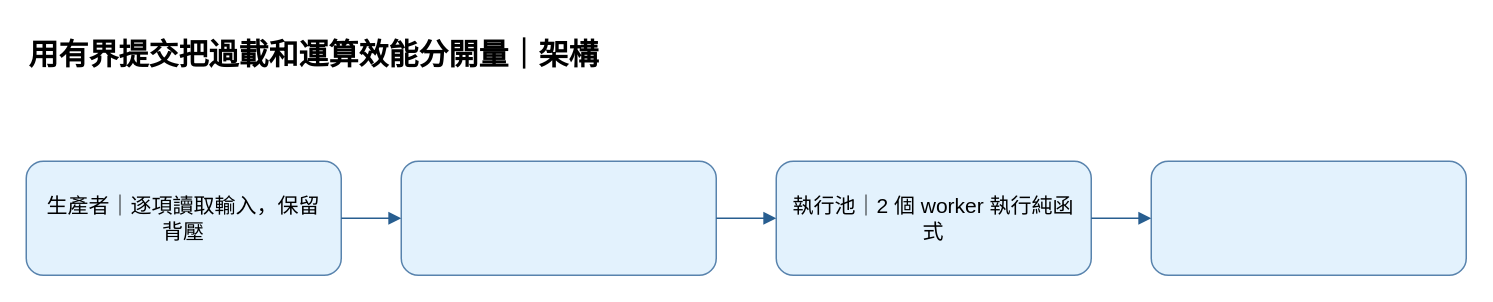
The diagram is 1493 pixels wide and 302 high, and some of its shapes have lost their labels. Here are the shapes that lost their labels. From the top down, the box of each, then its label:
(400, 160, 716, 275): 提交窗｜未退役 Future 最多 3
(1150, 160, 1466, 275): 收集器｜完成後退役，結果不保證順序
